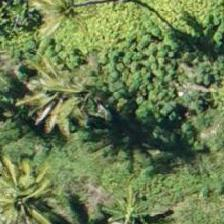coconut_tree: (0, 147, 60, 223)
